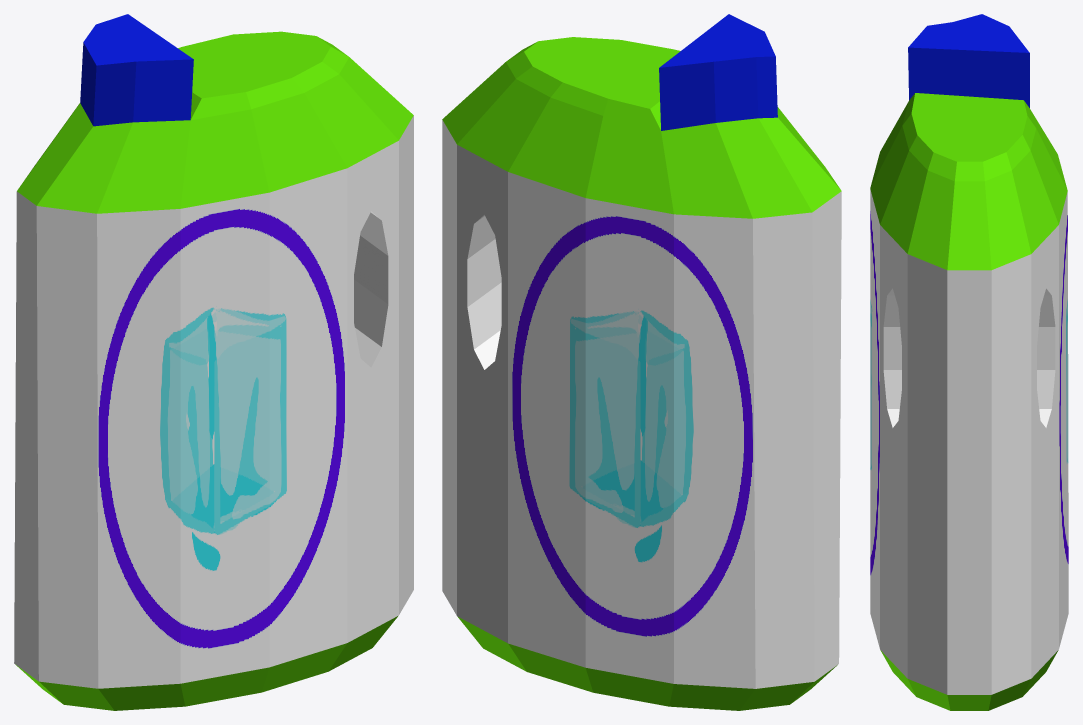
The model's file is antifreezePrototype.fbx.
3 views of the same model, side by side, from view 1: azimuth 30°, elevation 25°; view 2: azimuth 150°, elevation 25°; view 3: azimuth 270°, elevation 25° (orthographic). The views are drawn at different scales.
Parts seen in each view (by area): view 1: Cylinder; view 2: Cylinder; view 3: Cylinder.
Boxes of the visible parts, left/top/right/bottom form: Cylinder: left=14, top=14, right=413, bottom=710; Cylinder: left=442, top=14, right=841, bottom=710; Cylinder: left=870, top=14, right=1068, bottom=710.
Size of the model in its own units: 177 by 286 by 90.
